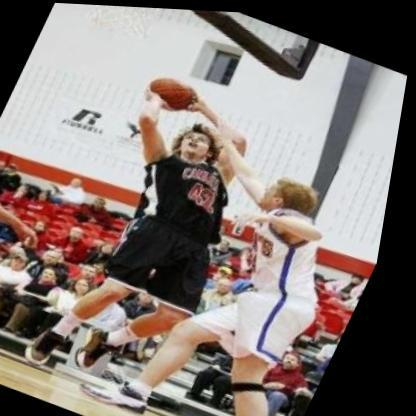basketball: (144, 68, 203, 114)
